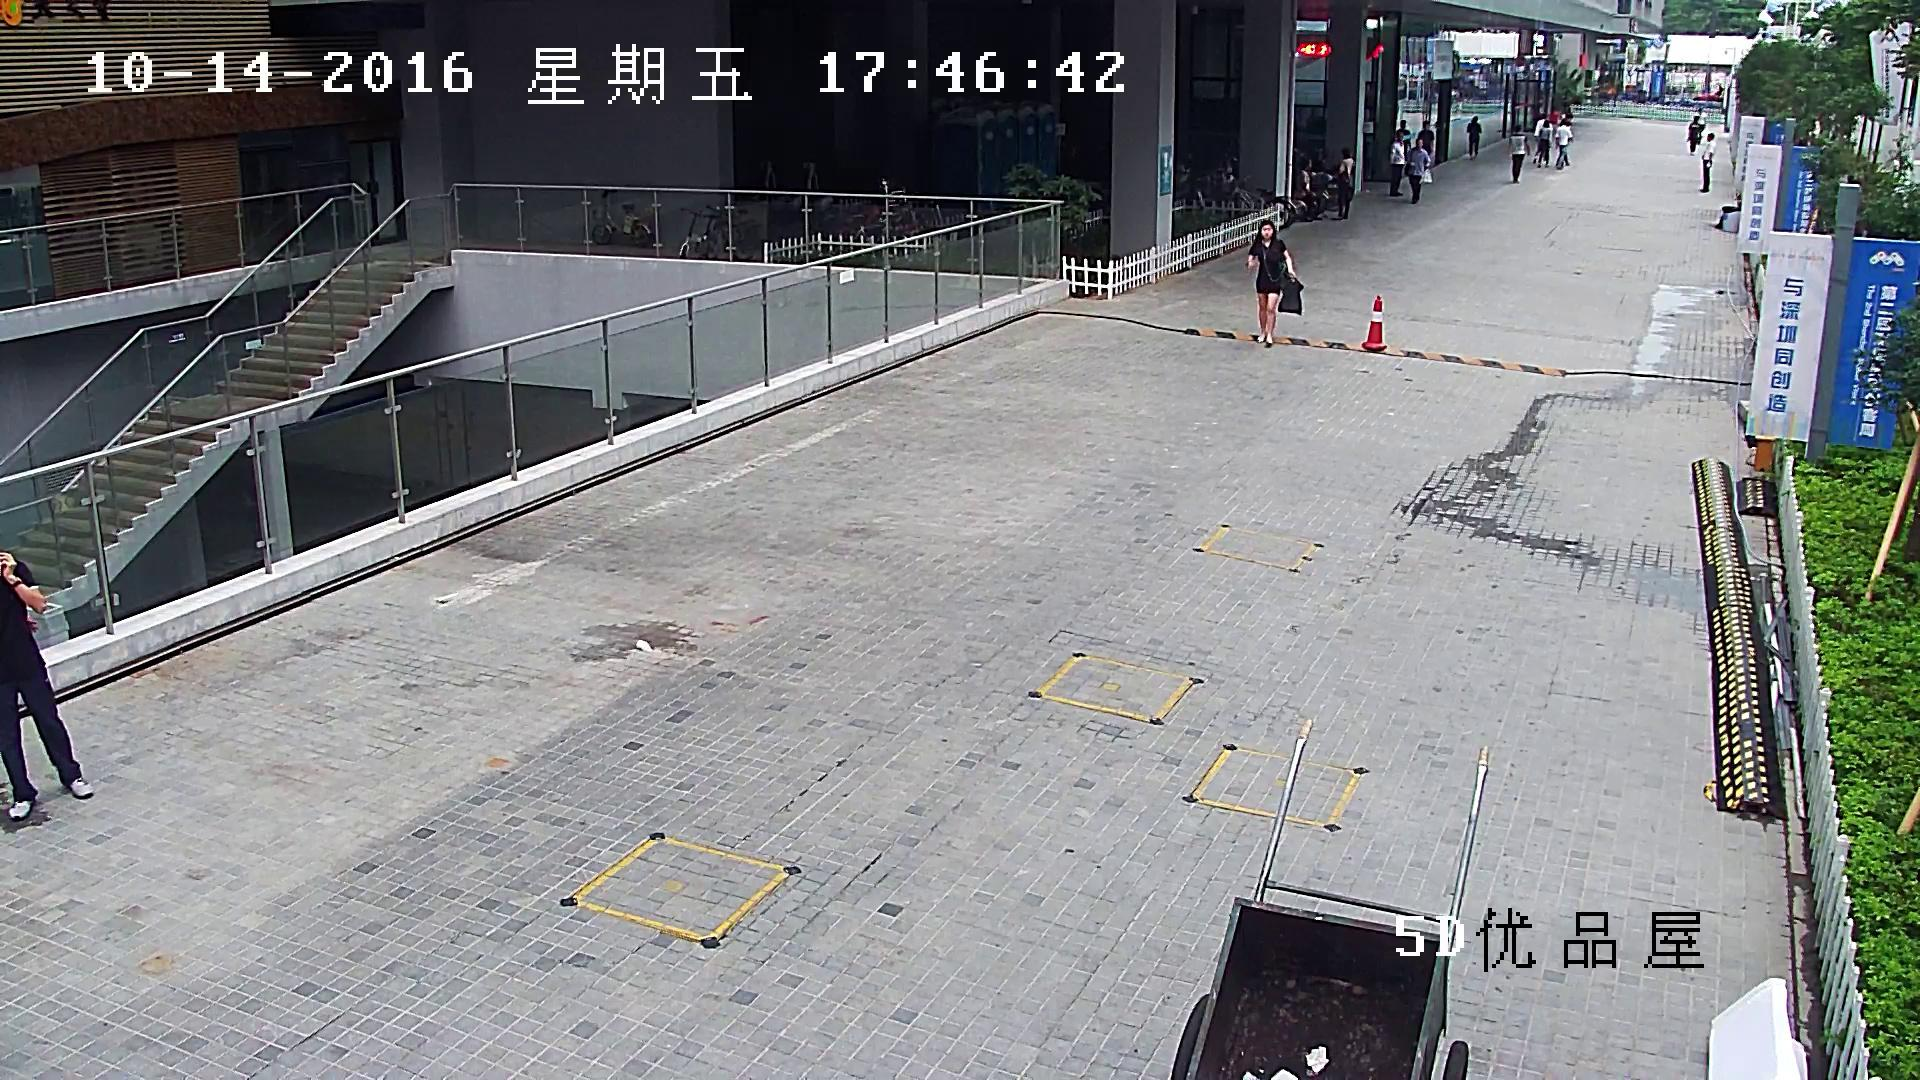person: (0, 547, 94, 821), (1244, 218, 1304, 348), (1293, 156, 1325, 223), (1331, 146, 1356, 221), (1405, 138, 1432, 206), (1507, 123, 1530, 184), (1387, 130, 1406, 198), (1698, 131, 1717, 193), (1532, 112, 1552, 164), (1554, 120, 1573, 170), (1416, 118, 1437, 164), (1394, 119, 1412, 162), (1465, 115, 1482, 160), (1536, 119, 1551, 169), (1686, 113, 1702, 156), (1695, 106, 1707, 134)
